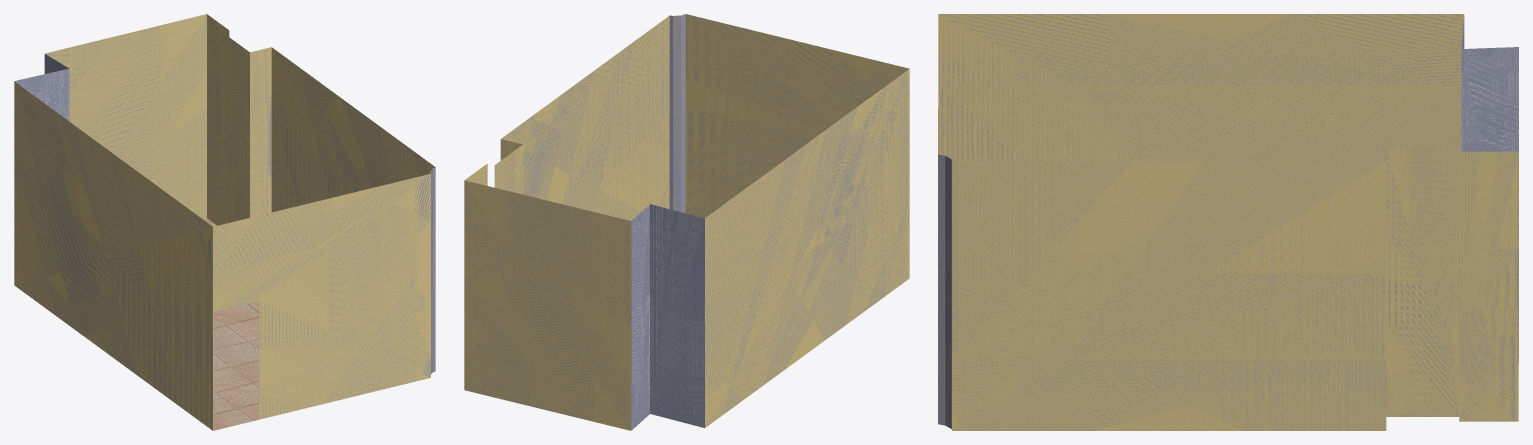
File: DES026.obj
3 renders of one model, left to right at view 1: azimuth 30°, elevation 25°; view 2: azimuth 150°, elevation 25°; view 3: azimuth 270°, elevation 25°, orthographic. The views are drawn at different scales.
Visible parts, largest first — view 1: Mesh1 des026 Model; view 2: Mesh1 des026 Model; view 3: Mesh1 des026 Model.
Boxes of the visible parts, x1=… form: Mesh1 des026 Model: x1=14, y1=14, x2=435, y2=430; Mesh1 des026 Model: x1=464, y1=14, x2=909, y2=430; Mesh1 des026 Model: x1=938, y1=14, x2=1518, y2=430.
Size of the model in its own units: 4.21 by 3.6 by 7.02.
Materials: 6 (2 with a texture image).
